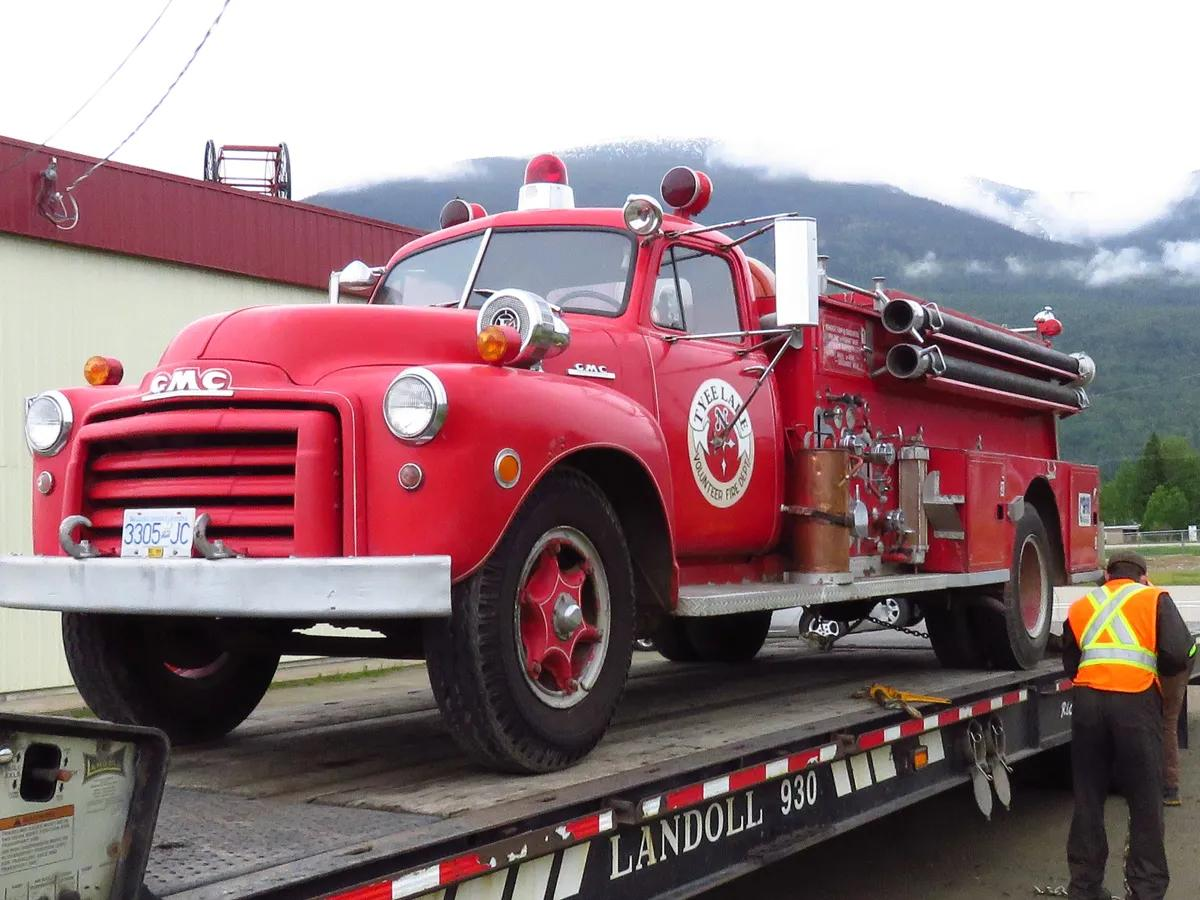Fire-engine: (1, 151, 1107, 775)
